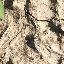Morning glory: (0, 0, 45, 24)
